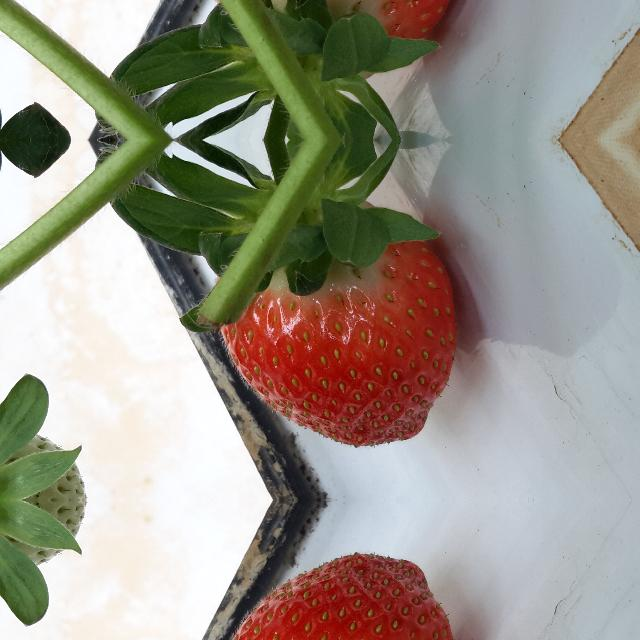Health_100: (217, 240, 457, 448), (217, 552, 457, 640)
